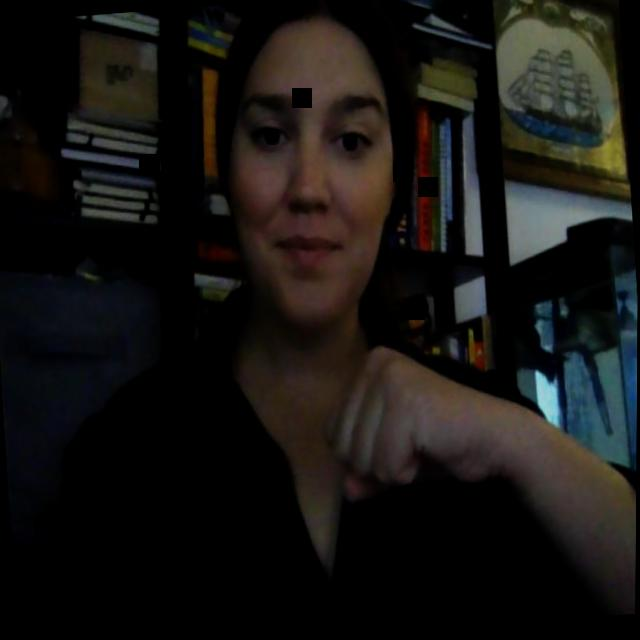Rock: (326, 329, 510, 512)
